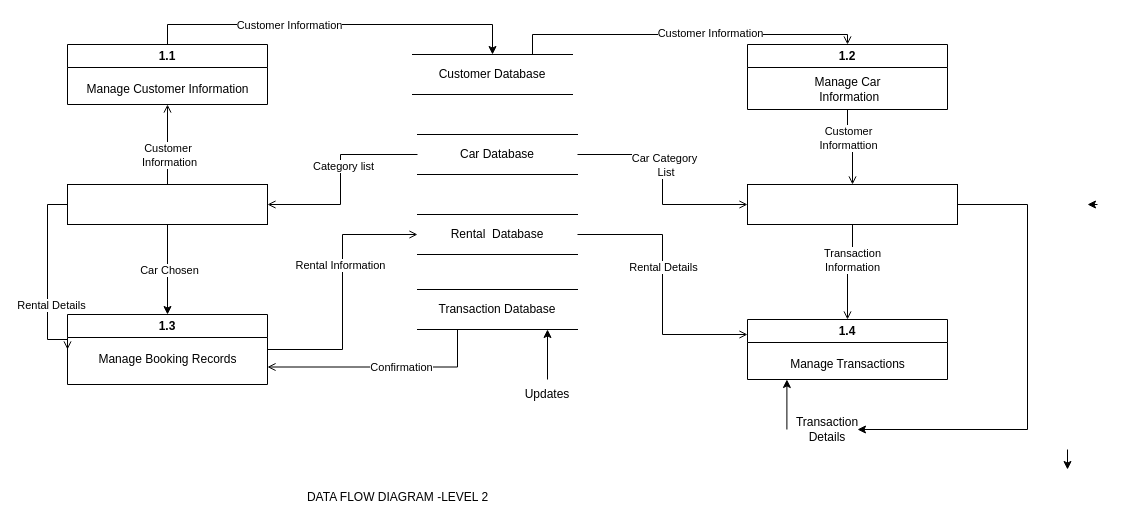
Some shapes in this 1123 by 530 pixel diagram are drawn without their labels. The shapes that lost their labels are listed below. From the top down, each one's box as (x1, y1, x2, y2) in pixels, then its label:
(66, 184, 268, 224): Customer
(746, 184, 958, 224): Admin
